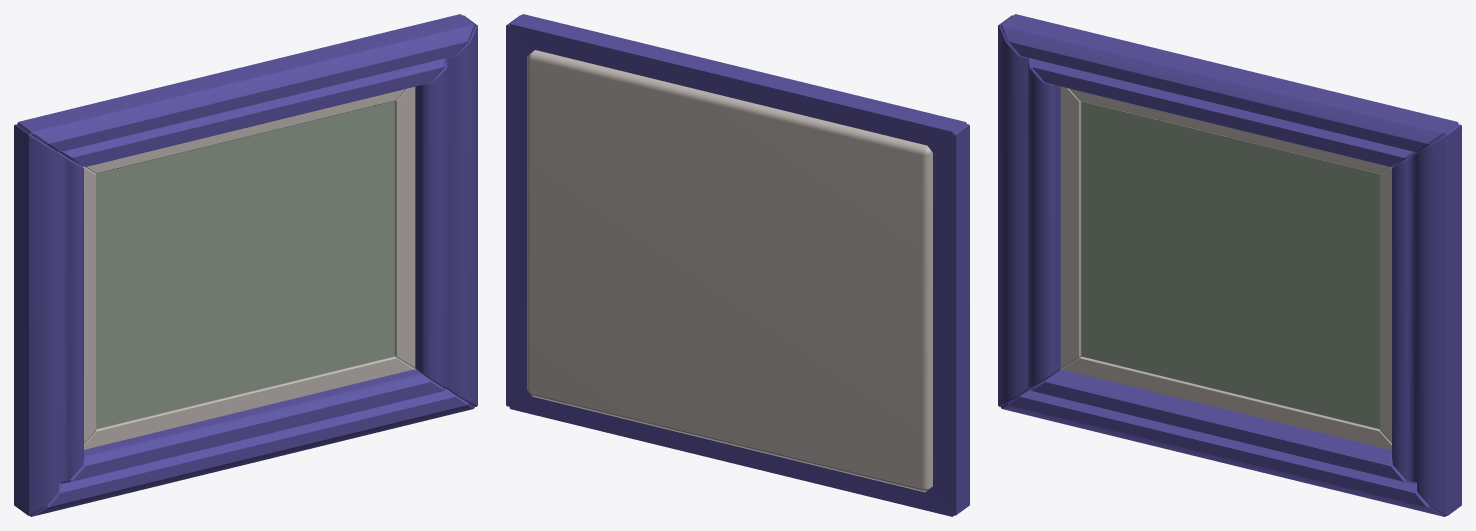
Rendered from PictureFrame_Hanging 1.fbx.
The picture shows the model from 3 angles, left to right: view 1: azimuth 30°, elevation 25°; view 2: azimuth 150°, elevation 25°; view 3: azimuth 330°, elevation 25°; orthographic projection.
Visible parts, largest first — view 1: PictureFrameHanging_Photo, HangingFrame_OuterFrame2, HangingFrame_OuterFrame1, HangingFrame_InnerFrame2, HangingFrame_InnerFrame1; view 2: PictureFrameHanging_Back, HangingFrame_OuterFrame2, HangingFrame_OuterFrame1; view 3: PictureFrameHanging_Photo, HangingFrame_OuterFrame2, HangingFrame_OuterFrame1, HangingFrame_InnerFrame2, HangingFrame_InnerFrame1.
Boxes of the visible parts, x1,y1,x2,y2 form: PictureFrameHanging_Photo: (96, 101, 394, 428); HangingFrame_OuterFrame2: (17, 14, 475, 516); HangingFrame_OuterFrame1: (14, 15, 477, 515); HangingFrame_InnerFrame2: (83, 87, 415, 443); HangingFrame_InnerFrame1: (84, 88, 415, 449); PictureFrameHanging_Back: (527, 50, 932, 492); HangingFrame_OuterFrame2: (509, 14, 967, 516); HangingFrame_OuterFrame1: (506, 15, 969, 515); PictureFrameHanging_Photo: (1081, 101, 1379, 428); HangingFrame_OuterFrame2: (1000, 14, 1458, 516); HangingFrame_OuterFrame1: (998, 15, 1461, 515); HangingFrame_InnerFrame2: (1060, 87, 1392, 443); HangingFrame_InnerFrame1: (1060, 88, 1391, 449).
Bounding box in the file's own units: 1.06 × 0.8634 × 0.0996.
